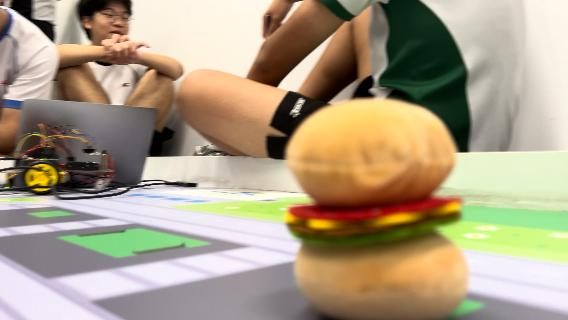burger: (283, 98, 469, 318)
